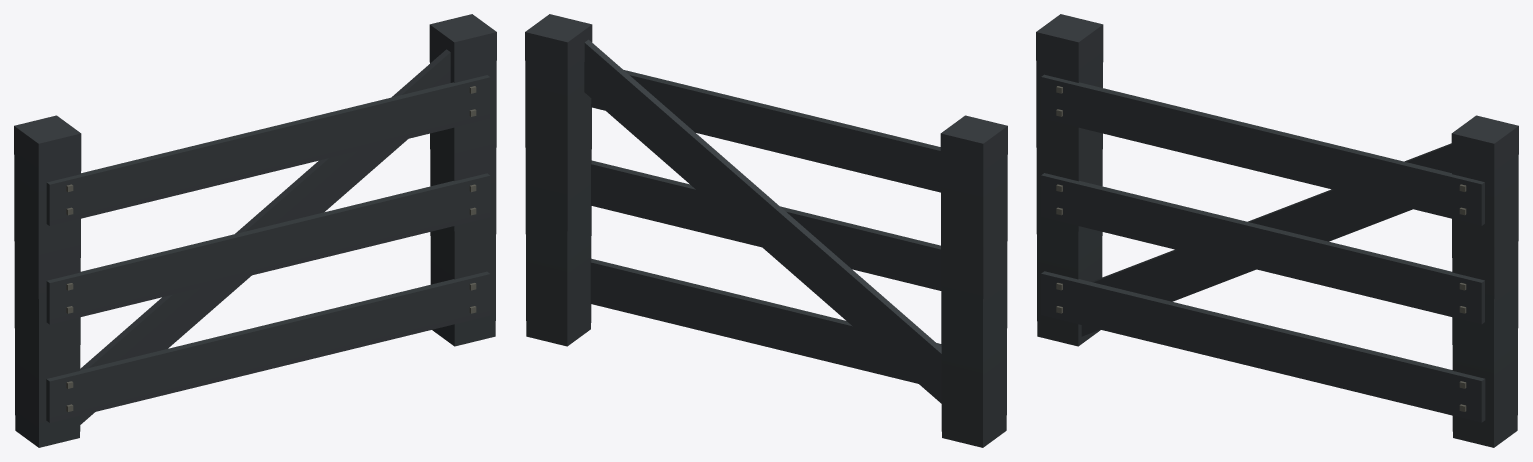
The model's file is Arch_07.fbx.
The picture shows the model from 3 angles, left to right: view 1: azimuth 30°, elevation 25°; view 2: azimuth 150°, elevation 25°; view 3: azimuth 330°, elevation 25°; orthographic projection.
Parts seen in each view (by area): view 1: Arch_07; view 2: Arch_07; view 3: Arch_07.
Boxes of the visible parts, bbox=[...] form: Arch_07: bbox=[14, 14, 496, 447]; Arch_07: bbox=[525, 14, 1007, 447]; Arch_07: bbox=[1036, 14, 1518, 447].
Bounding box in the file's own units: 1.73 × 1.1 × 0.1903.
